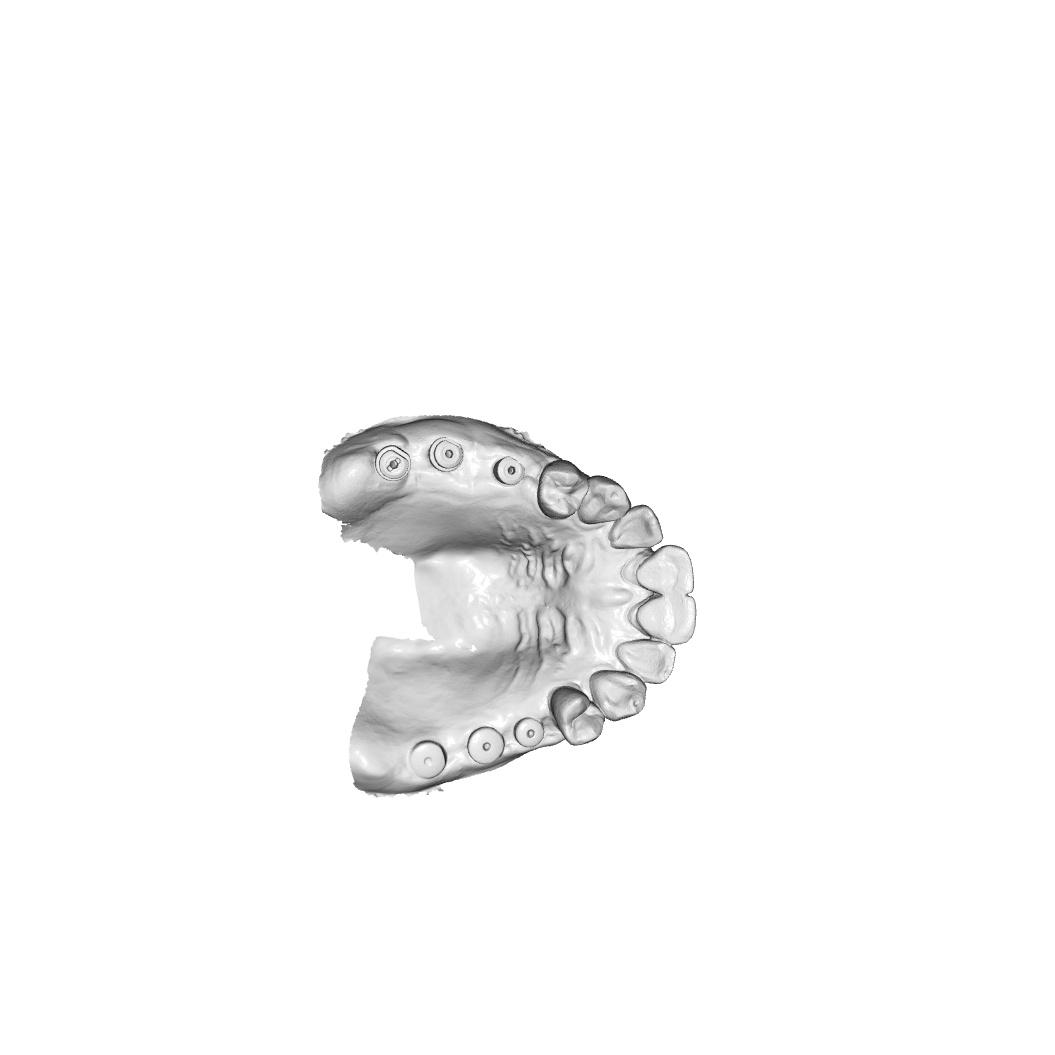canine: (588, 668, 648, 723), (577, 474, 632, 525)
implant: (408, 739, 448, 780), (466, 725, 505, 766), (427, 436, 464, 474), (492, 455, 527, 486), (513, 716, 545, 749)
implant_minus: (374, 443, 413, 482)
incisor: (633, 594, 697, 646), (633, 543, 695, 596), (614, 639, 677, 685), (608, 504, 664, 551)
premolar: (549, 685, 606, 746), (536, 459, 586, 520)
